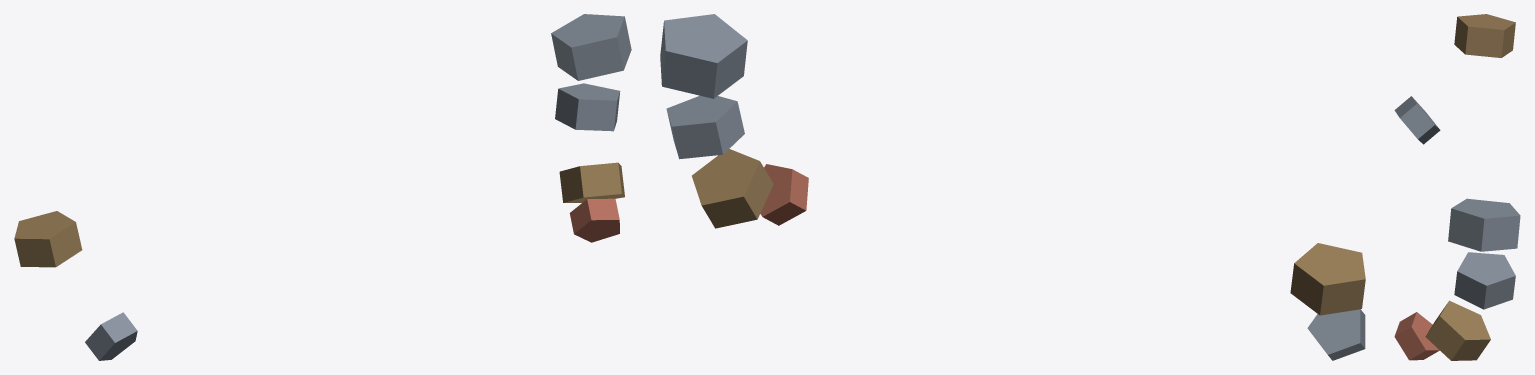
File: SM_Chr_Attach_Earrings_01.fbx
3 views of the same model, side by side, from view 1: azimuth 30°, elevation 25°; view 2: azimuth 150°, elevation 25°; view 3: azimuth 270°, elevation 25° (orthographic). The views are drawn at different scales.
Visible parts, largest first — view 1: SM_Chr_Attach_Earrings_01; view 2: SM_Chr_Attach_Earrings_01; view 3: SM_Chr_Attach_Earrings_01.
Boxes of the visible parts, x1,y1,x2,y2 form: SM_Chr_Attach_Earrings_01: (14,14,631,360); SM_Chr_Attach_Earrings_01: (660,14,1365,360); SM_Chr_Attach_Earrings_01: (1394,14,1520,360).
Bounding box in the file's own units: 30.44 × 8.81 × 5.89.
